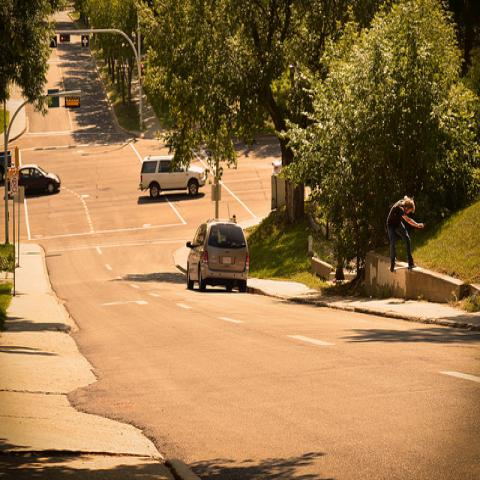car: (185, 218, 250, 294), (137, 154, 206, 199), (17, 164, 61, 196)
